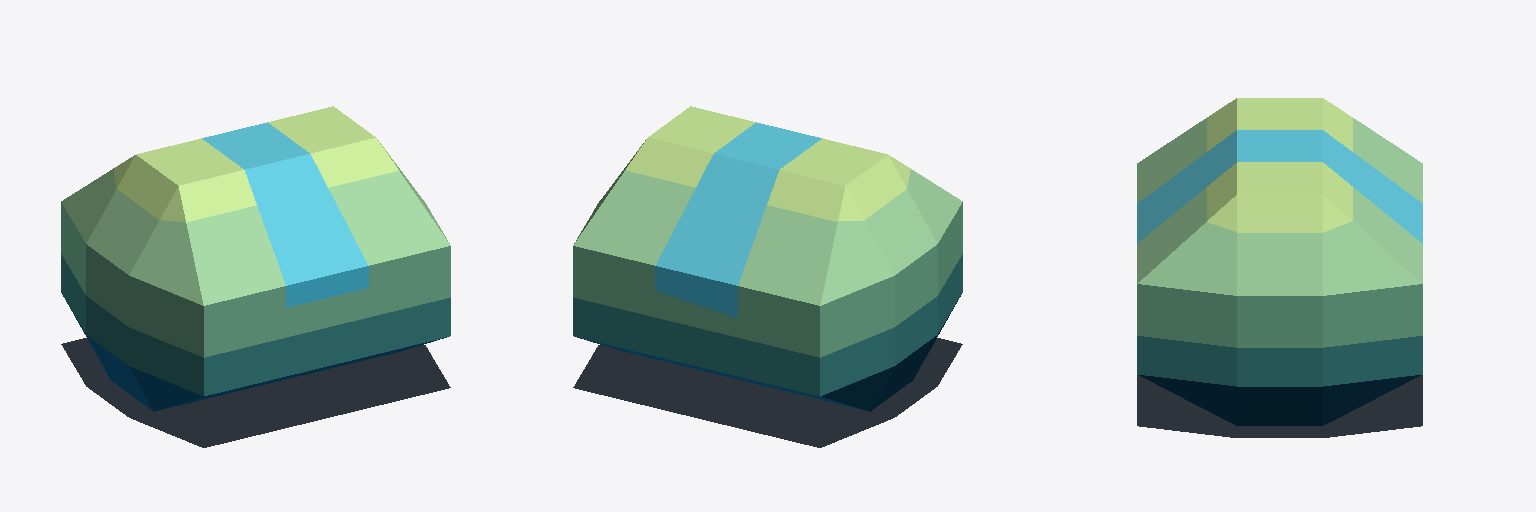
3 views of the same model, side by side, from view 1: azimuth 30°, elevation 25°; view 2: azimuth 150°, elevation 25°; view 3: azimuth 270°, elevation 25° (orthographic).
Visible parts, largest first — view 1: Cube; view 2: Cube; view 3: Cube.
Part boxes in pixels (left/top/right/bottom): Cube: left=61, top=106, right=450, bottom=447; Cube: left=573, top=106, right=962, bottom=447; Cube: left=1137, top=98, right=1422, bottom=437.
Size of the model in its own units: 2.4 by 1.7 by 2.
1 materials, 1 textured.